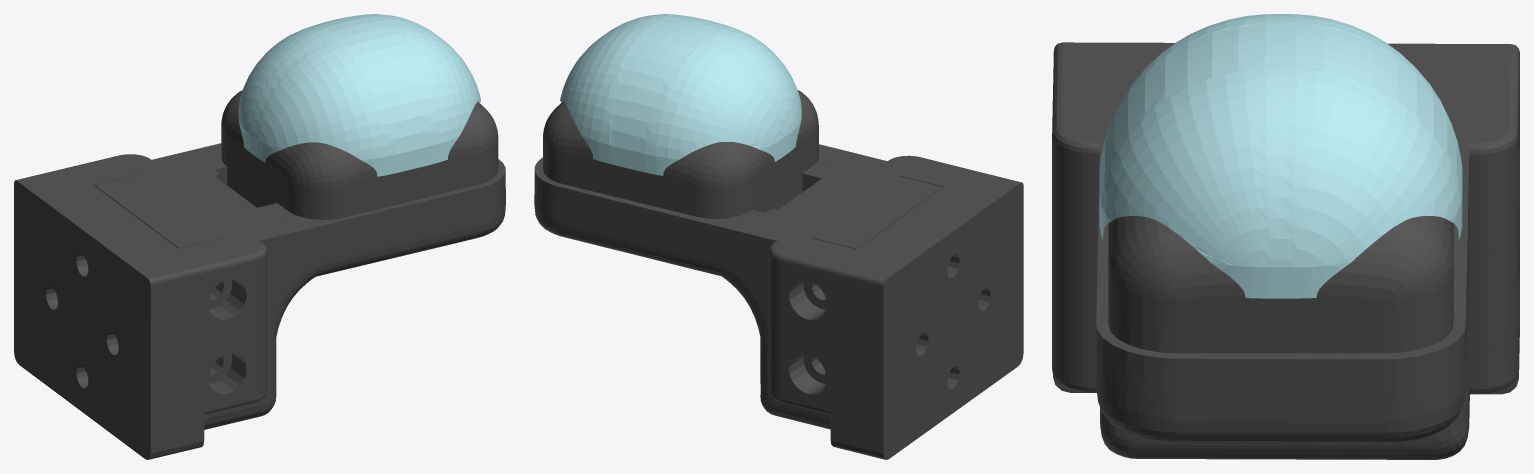
File: DotTip.dae
3 views of the same model, side by side, from view 1: azimuth 30°, elevation 25°; view 2: azimuth 150°, elevation 25°; view 3: azimuth 270°, elevation 25° (orthographic). The views are drawn at different scales.
Visible parts, largest first — view 1: node; view 2: node; view 3: node.
Boxes of the visible parts, x1,y1,x2,y2 form: node: (14,14,505,459); node: (534,14,1023,459); node: (1052,14,1519,459).
Bounding box in the file's own units: 0.0435 × 0.0346 × 0.0271.
